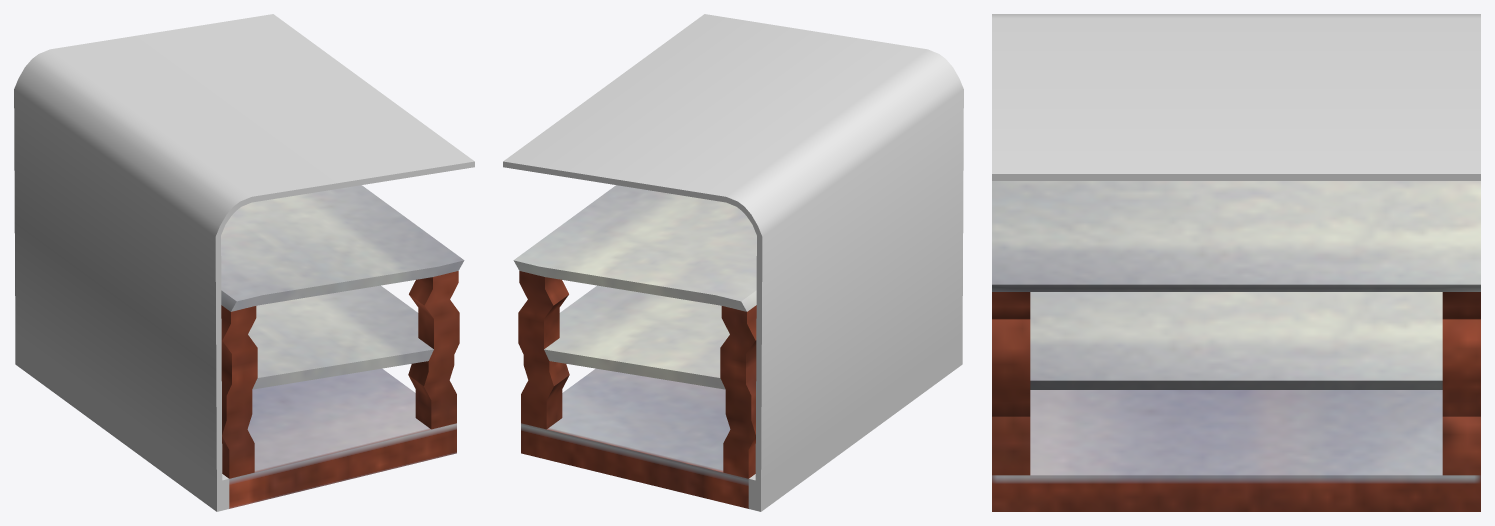
The model's file is Bakery_Display.fbx.
The picture shows the model from 3 angles, left to right: view 1: azimuth 30°, elevation 25°; view 2: azimuth 150°, elevation 25°; view 3: azimuth 270°, elevation 25°; orthographic projection. The views are drawn at different scales.
Visible parts, largest first — view 1: Cube_1, Main; view 2: Cube_1, Main; view 3: Main, Cube_1.
Part boxes in pixels (left/top/right/bottom): Cube_1: left=14, top=14, right=474, bottom=511; Main: left=221, top=185, right=464, bottom=508; Cube_1: left=503, top=14, right=963, bottom=511; Main: left=513, top=185, right=756, bottom=508; Main: left=992, top=181, right=1480, bottom=511; Cube_1: left=992, top=14, right=1480, bottom=180.
Size of the model in its own units: 114 by 129 by 153.
